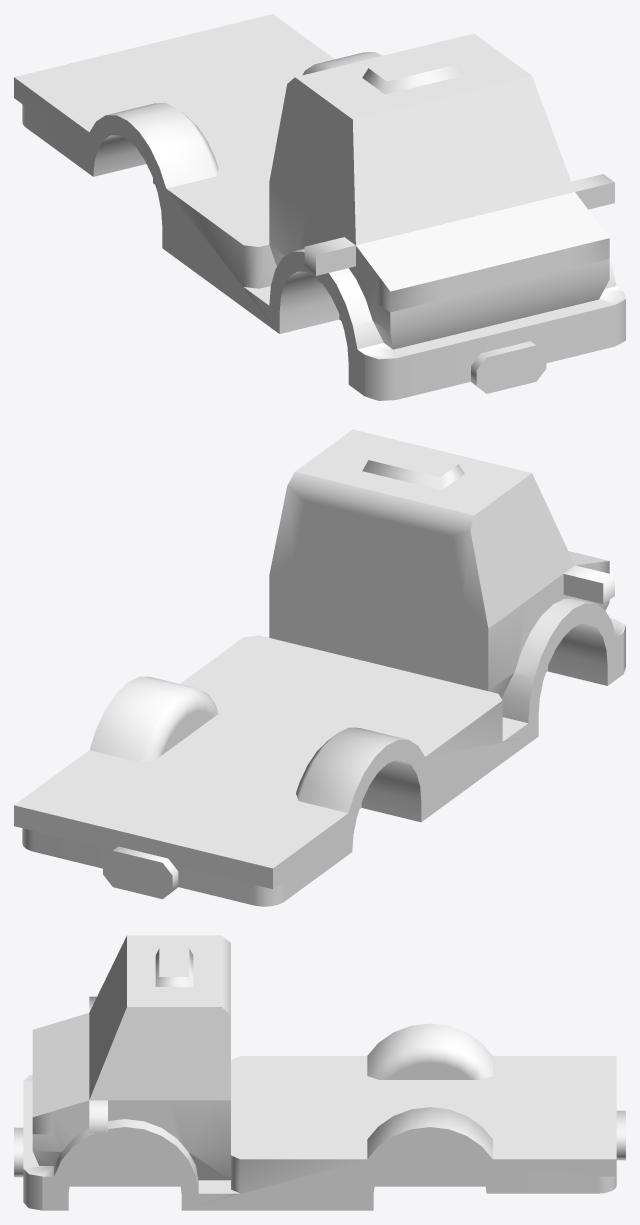
Rendered from cargo-vehicle.glb.
3 renders of one model, top to bottom at view 1: azimuth 30°, elevation 25°; view 2: azimuth 150°, elevation 25°; view 3: azimuth 270°, elevation 25°, orthographic. The views are drawn at different scales.
Visible parts, largest first — view 1: cargo-vehicle; view 2: cargo-vehicle; view 3: cargo-vehicle.
Part boxes in pixels (x1=…): cargo-vehicle: x1=14, y1=14, x2=625, y2=400; cargo-vehicle: x1=14, y1=429, x2=625, y2=906; cargo-vehicle: x1=14, y1=935, x2=625, y2=1210.
Bounding box in the file's own units: 1.5 × 1.2 × 3.25.
1 material, 1 textured.
